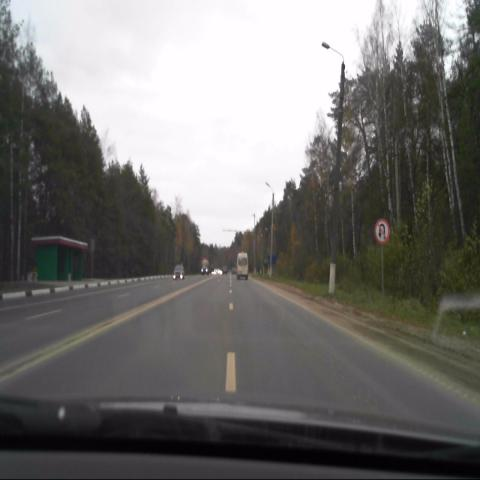3_19: (373, 216, 391, 246)
